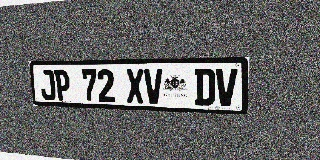2: (97, 69, 115, 102)
7: (81, 69, 98, 102)
D: (194, 69, 215, 106)
J: (39, 70, 56, 100)
P: (54, 70, 71, 101)
V: (215, 68, 238, 106), (144, 69, 163, 104)
X: (126, 69, 144, 103)
